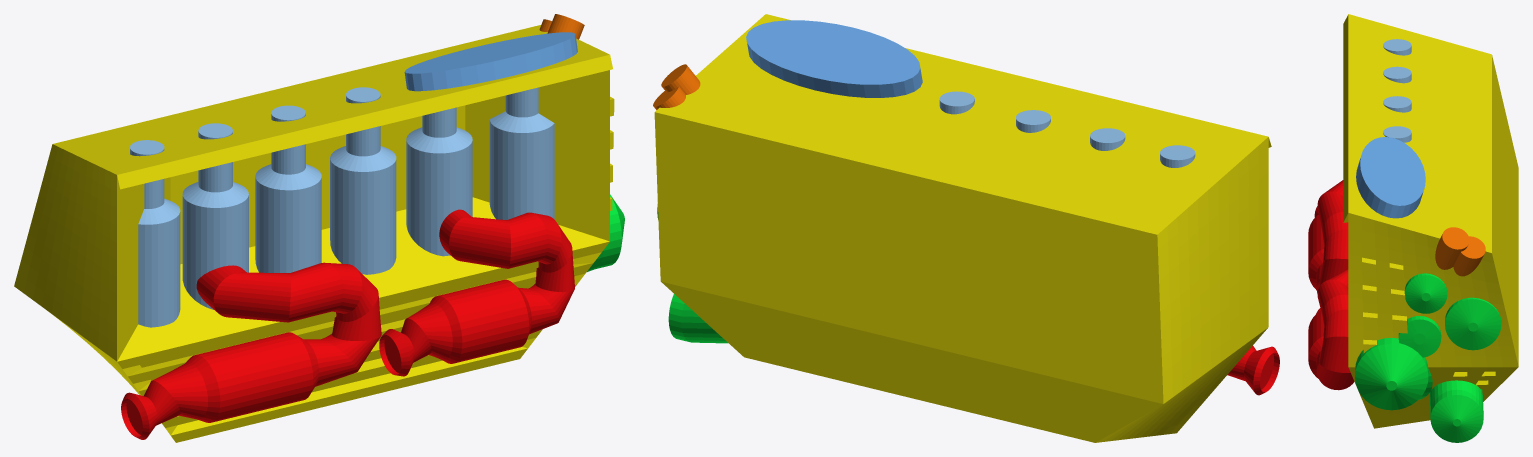
File: carro2.fbx
3 renders of one model, left to right at view 1: azimuth 30°, elevation 25°; view 2: azimuth 150°, elevation 25°; view 3: azimuth 270°, elevation 25°, orthographic. The views are drawn at different scales.
Visible parts, largest first — view 1: Cube; view 2: Cube; view 3: Cube.
Boxes of the visible parts, bbox=[...] form: Cube: bbox=[14, 14, 624, 442]; Cube: bbox=[653, 14, 1279, 442]; Cube: bbox=[1308, 14, 1518, 442].
Bounding box in the file's own units: 5.95 × 2.47 × 3.34.
